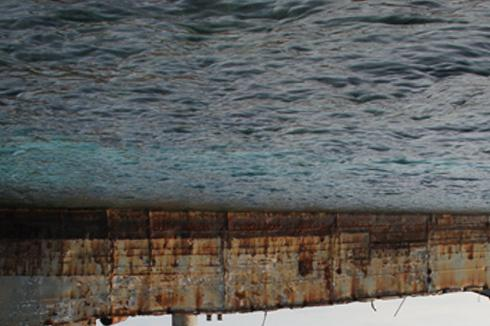rust: (2, 206, 490, 246), (112, 274, 222, 310), (229, 276, 298, 311), (294, 250, 322, 275)
